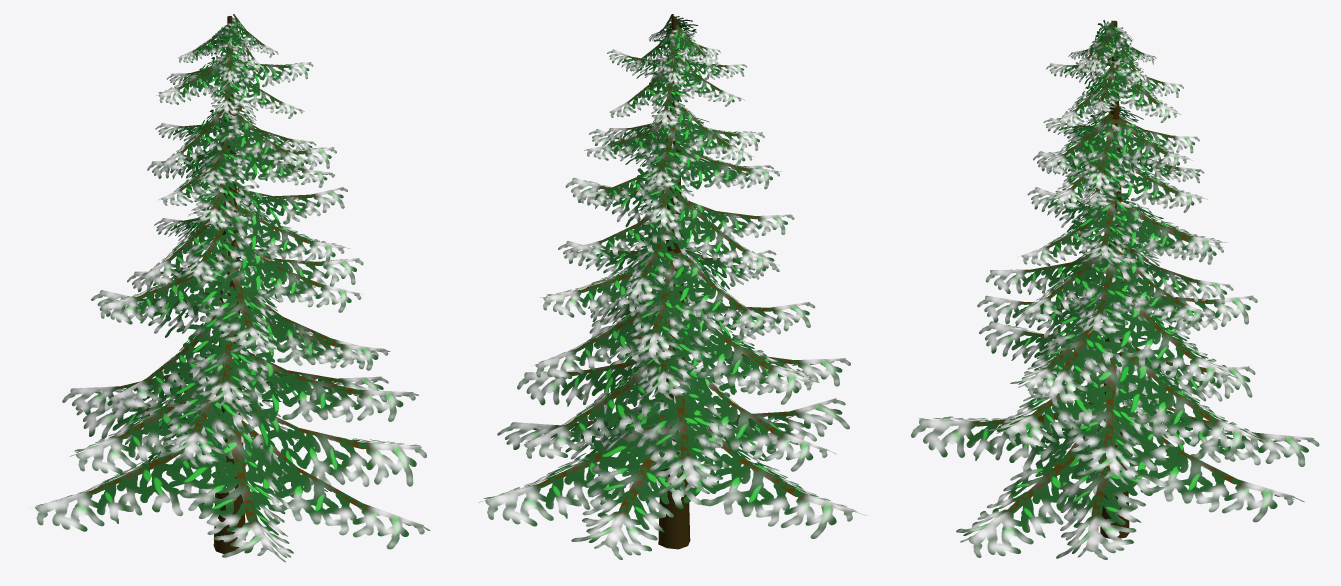
File: tree3_LOD0.fbx
The picture shows the model from 3 angles, left to right: view 1: azimuth 30°, elevation 25°; view 2: azimuth 150°, elevation 25°; view 3: azimuth 270°, elevation 25°; orthographic projection. The views are drawn at different scales.
Visible parts, largest first — view 1: Leaves_LOD0, Tree-LOD0; view 2: Leaves_LOD0, Tree-LOD0; view 3: Leaves_LOD0, Tree-LOD0.
Part boxes in pixels (x1,y1,x2,y2): Leaves_LOD0: (35,14,430,562); Tree-LOD0: (213,16,245,553); Leaves_LOD0: (478,14,866,559); Tree-LOD0: (658,17,690,549); Leaves_LOD0: (911,20,1319,559); Tree-LOD0: (1100,20,1129,538).
Size of the model in its own units: 658 by 874 by 649.
